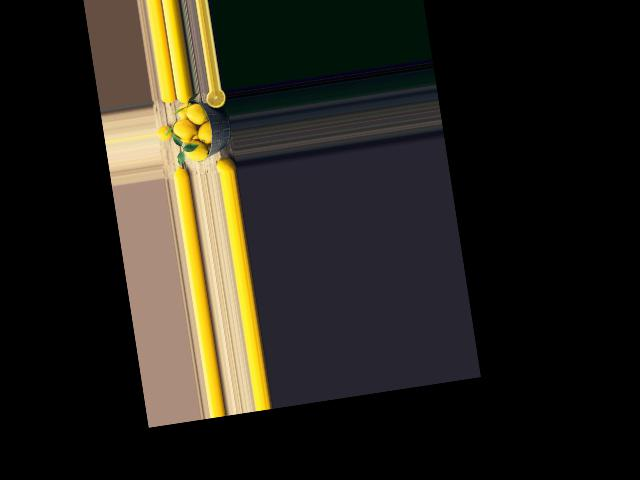lemon: (185, 101, 214, 128)
